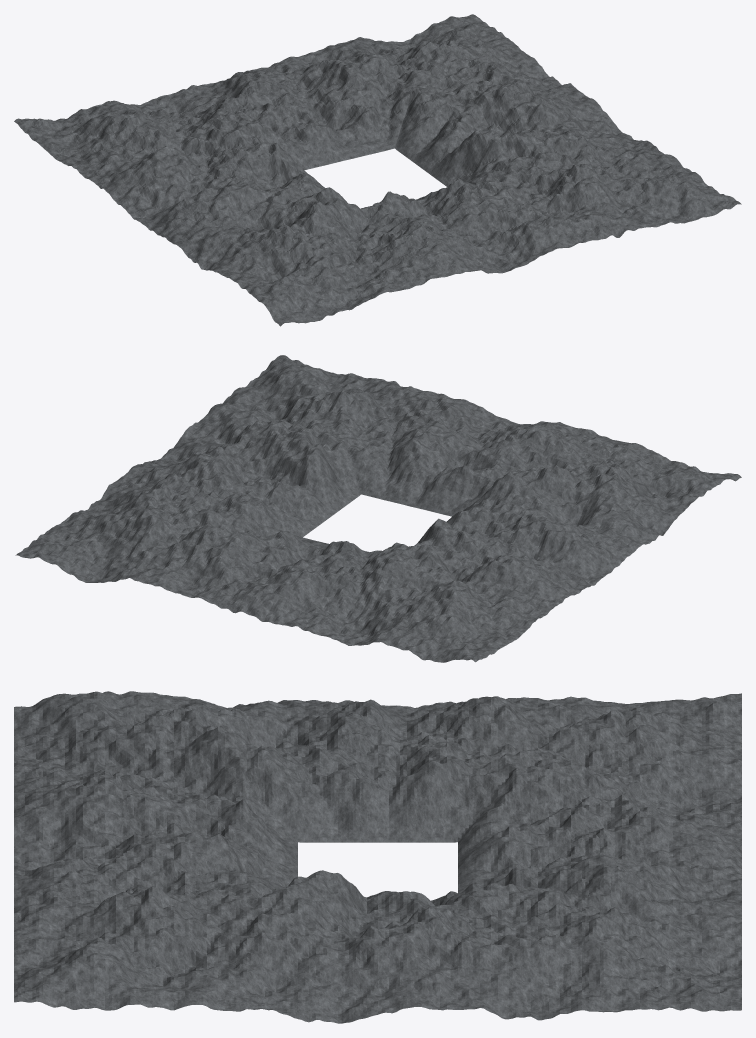
Rendered from lunar-terrain.glb.
3 renders of one model, top to bottom at view 1: azimuth 30°, elevation 25°; view 2: azimuth 150°, elevation 25°; view 3: azimuth 270°, elevation 25°, orthographic. The views are drawn at different scales.
Parts seen in each view (by area): view 1: Continuous lunar terrain; view 2: Continuous lunar terrain; view 3: Continuous lunar terrain.
Boxes of the visible parts, <box> form: Continuous lunar terrain: <box>14,14,741,326</box>; Continuous lunar terrain: <box>15,355,741,662</box>; Continuous lunar terrain: <box>14,691,741,1023</box>.
Size of the model in its own units: 220 by 22.19 by 220.
Materials: 1 (1 with a texture image).
